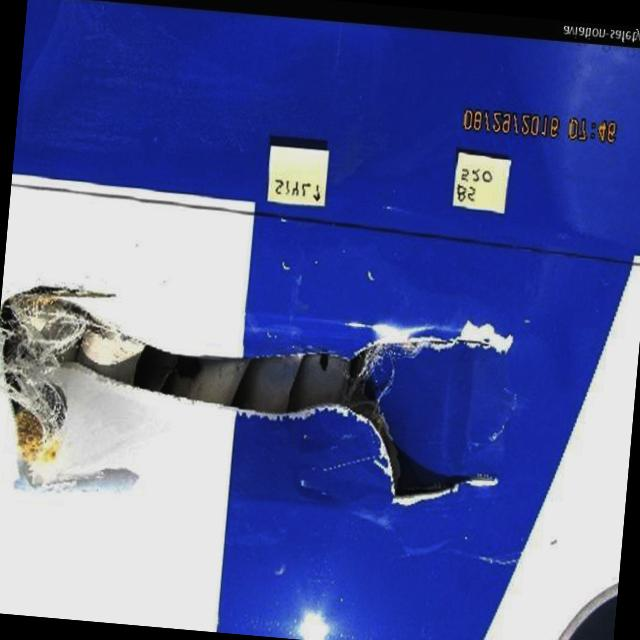crack: (394, 449, 502, 525), (378, 312, 506, 374)
